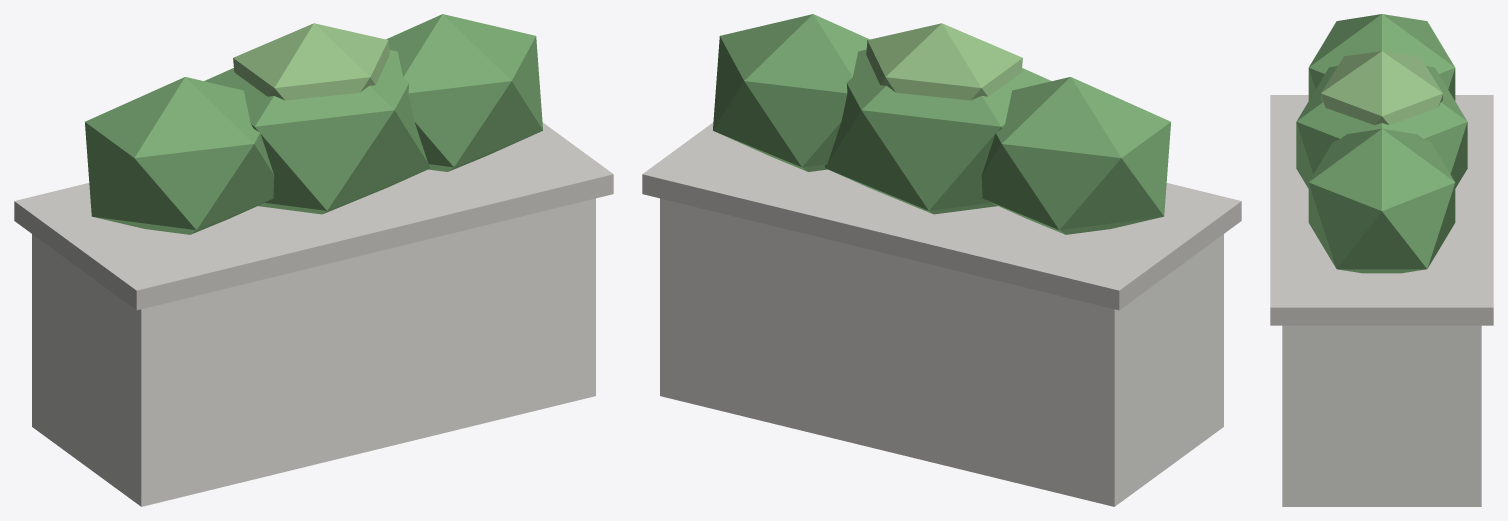
The model's file is planter.glb.
3 views of the same model, side by side, from view 1: azimuth 30°, elevation 25°; view 2: azimuth 150°, elevation 25°; view 3: azimuth 270°, elevation 25° (orthographic). The views are drawn at different scales.
Visible parts, largest first — view 1: planter; view 2: planter; view 3: planter.
Boxes of the visible parts, left/top/right/bottom form: planter: left=14, top=14, right=613, bottom=506; planter: left=642, top=14, right=1241, bottom=506; planter: left=1270, top=14, right=1493, bottom=506.
Bounding box in the file's own units: 1.26 × 0.98 × 0.56.
